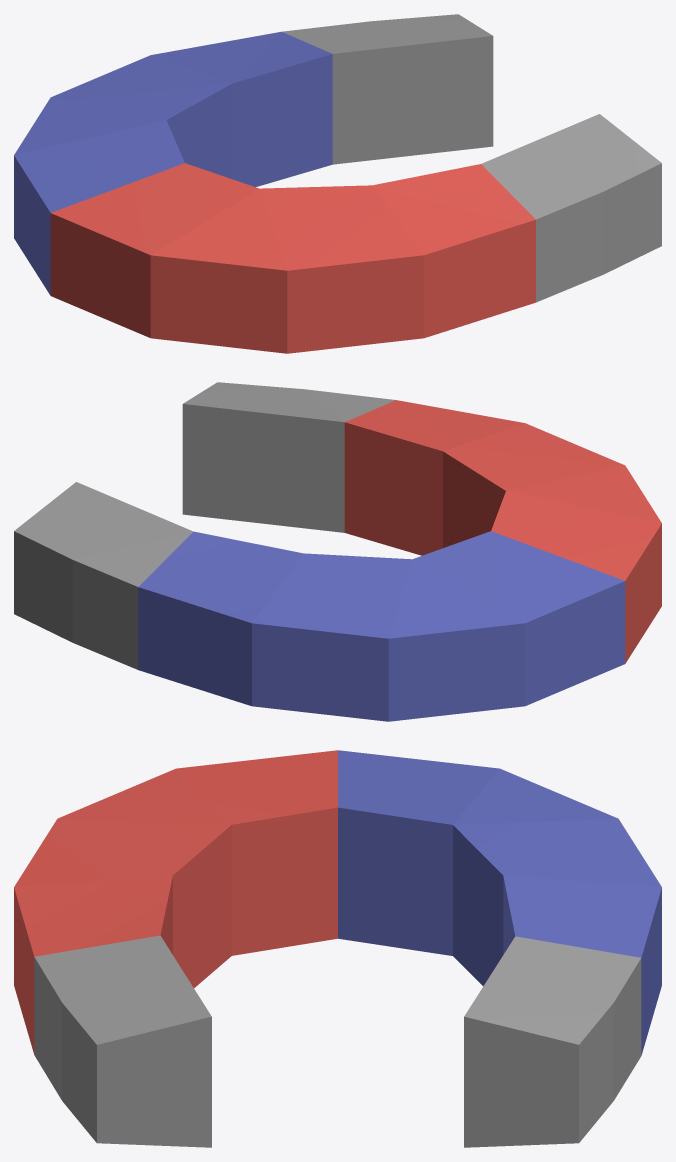
File: Magnet.fbx
The picture shows the model from 3 angles, top to bottom: view 1: azimuth 30°, elevation 25°; view 2: azimuth 150°, elevation 25°; view 3: azimuth 270°, elevation 25°; orthographic projection. The views are drawn at different scales.
Parts seen in each view (by area): view 1: Magnet; view 2: Magnet; view 3: Magnet.
Boxes of the visible parts, <box> form: Magnet: <box>14,14,661,353</box>; Magnet: <box>14,382,661,721</box>; Magnet: <box>14,750,661,1147</box>.
Size of the model in its own units: 215 by 44.66 by 200.
